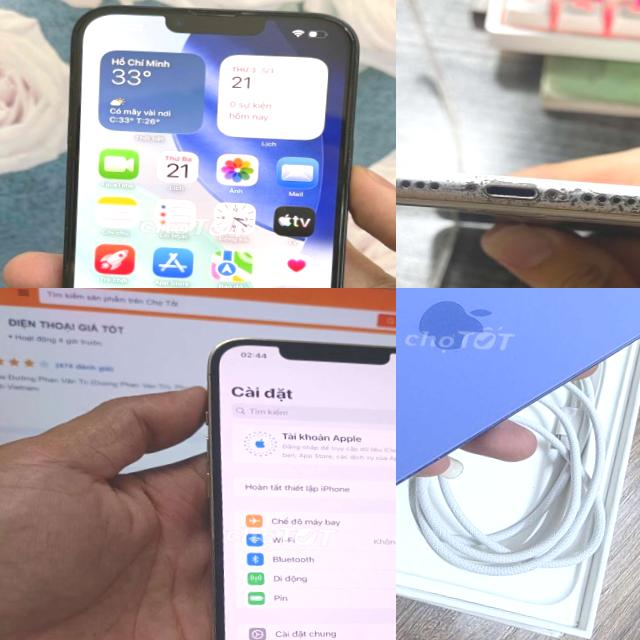gen_12_13: (183, 328, 396, 640)
gen_14: (39, 0, 368, 288)
gen_16: (396, 288, 640, 485)
gen_7_8: (396, 153, 640, 243)
